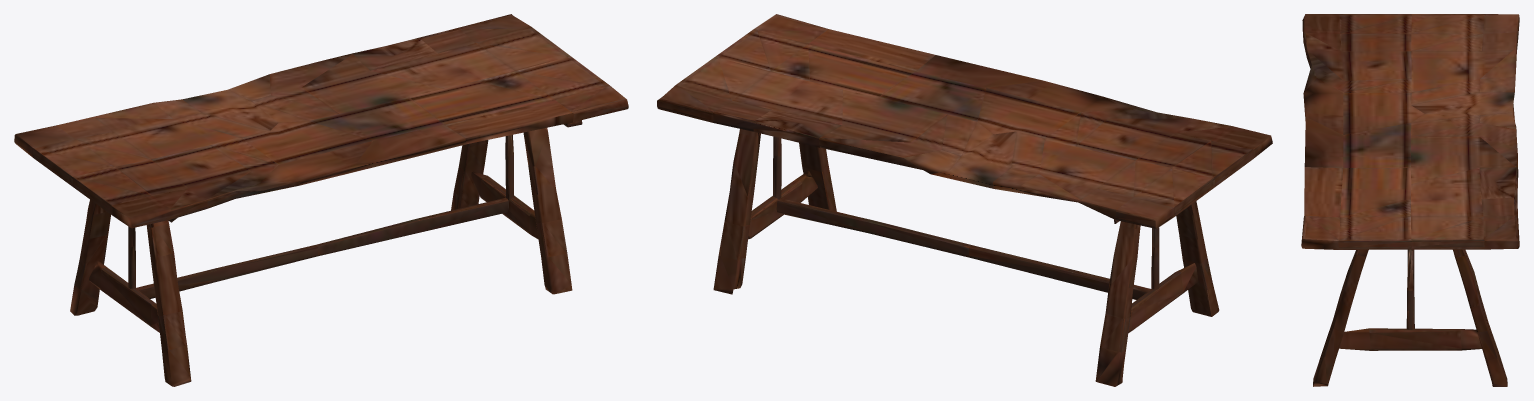
The model's file is long-table.lod1.glb.
3 renders of one model, left to right at view 1: azimuth 30°, elevation 25°; view 2: azimuth 150°, elevation 25°; view 3: azimuth 270°, elevation 25°, orthographic. The views are drawn at different scales.
Size of the model in its own units: 2.2 by 0.7767 by 0.9.
Materials: 1 (1 with a texture image).
